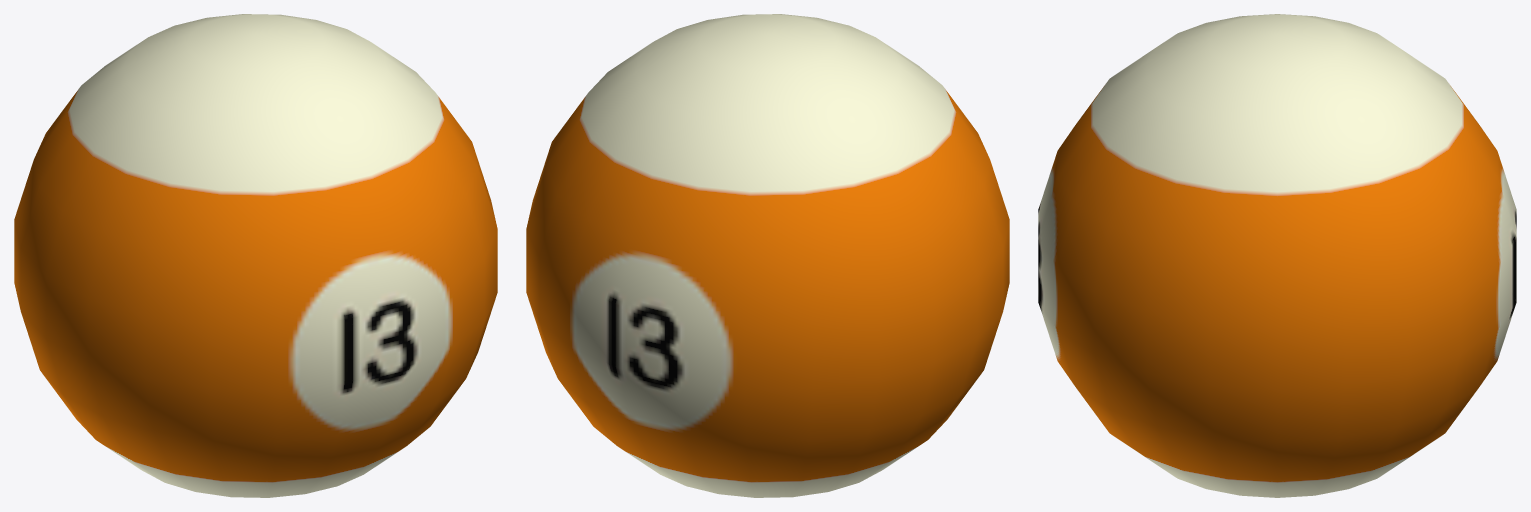
Rendered from Ball_13.FBX.
The picture shows the model from 3 angles, left to right: view 1: azimuth 30°, elevation 25°; view 2: azimuth 150°, elevation 25°; view 3: azimuth 270°, elevation 25°; orthographic projection.
Parts seen in each view (by area): view 1: Ball_13; view 2: Ball_13; view 3: Ball_13.
Part boxes in pixels (box(x1,y1,x2,y2)): Ball_13: box(14, 14, 497, 497); Ball_13: box(526, 14, 1009, 497); Ball_13: box(1038, 14, 1516, 497).
Bounding box in the file's own units: 5.64 × 5.7 × 5.58.
